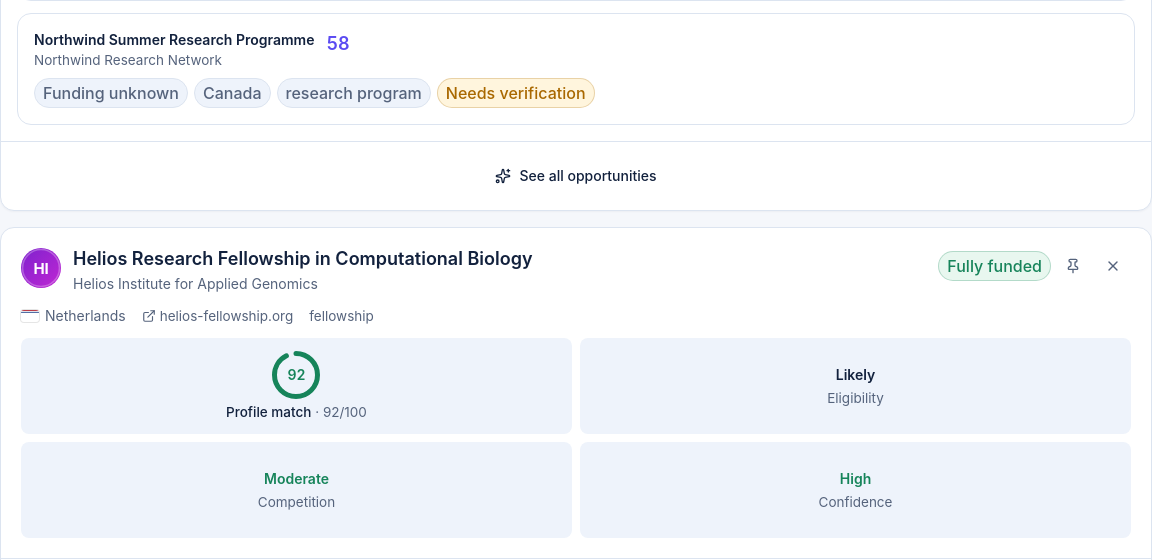
Test: HomePage › pins the opportunity into the agent context from the panel
The image size is (1152, 560).
(page scrolled)
Check: the heading "Helios Research Fellowship in Computational Biology" is shown, box [73,248,532,270]
Click the 1st button named "Pin to chat context". click: x=1073, y=266
box: [1055,248,1091,284]
(page scrolled)
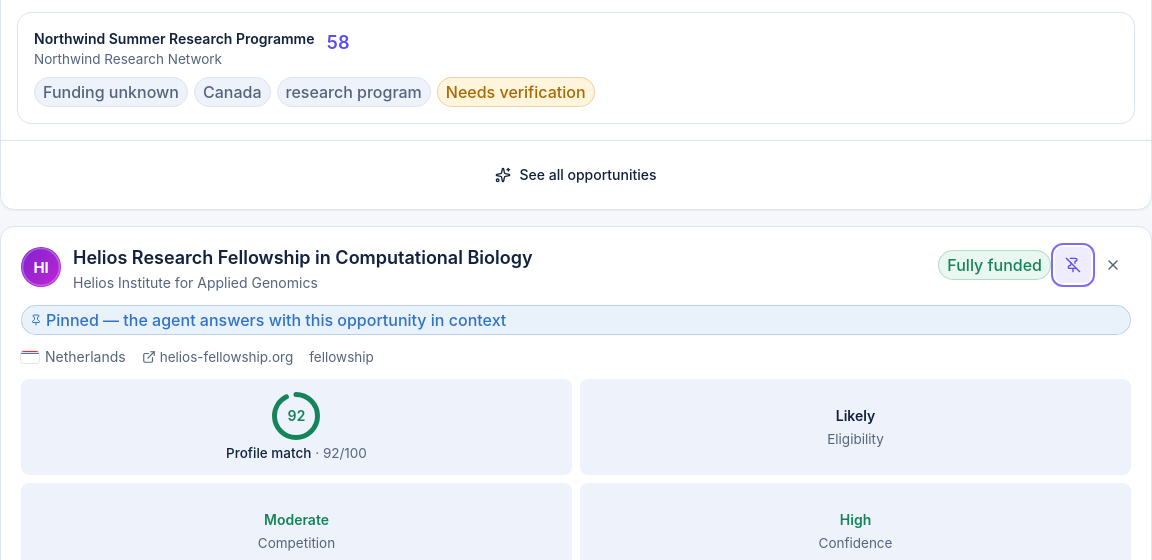
Check: the text "Pinned — the agent answers with this opportunity in context" is shown, box [21,305,1131,335]
